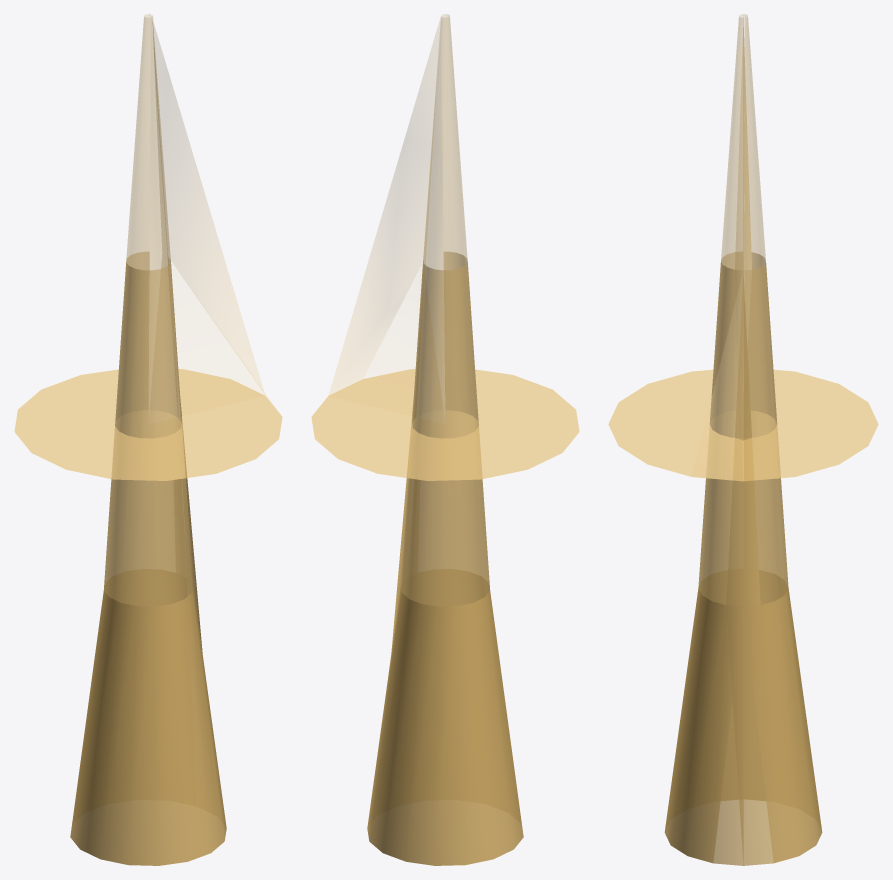
The model's file is objective_beacon.obj.
The picture shows the model from 3 angles, left to right: view 1: azimuth 30°, elevation 25°; view 2: azimuth 150°, elevation 25°; view 3: azimuth 270°, elevation 25°; orthographic projection.
Parts seen in each view (by area): view 1: objective_beacon; view 2: objective_beacon; view 3: objective_beacon.
Boxes of the visible parts, x1,y1,x2,y2 form: objective_beacon: (14, 14, 282, 865); objective_beacon: (311, 14, 579, 865); objective_beacon: (608, 14, 878, 865).
Bounding box in the file's own units: 1.2 × 4 × 1.2.
